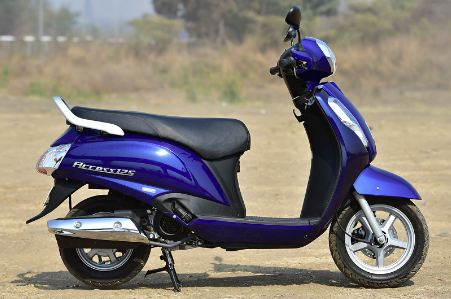bike: (24, 6, 430, 292)
